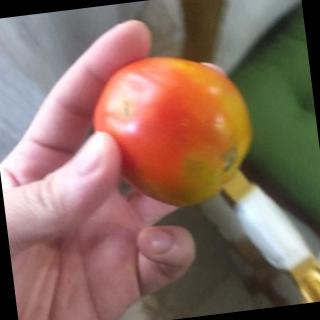Tomat: (70, 43, 269, 219)
